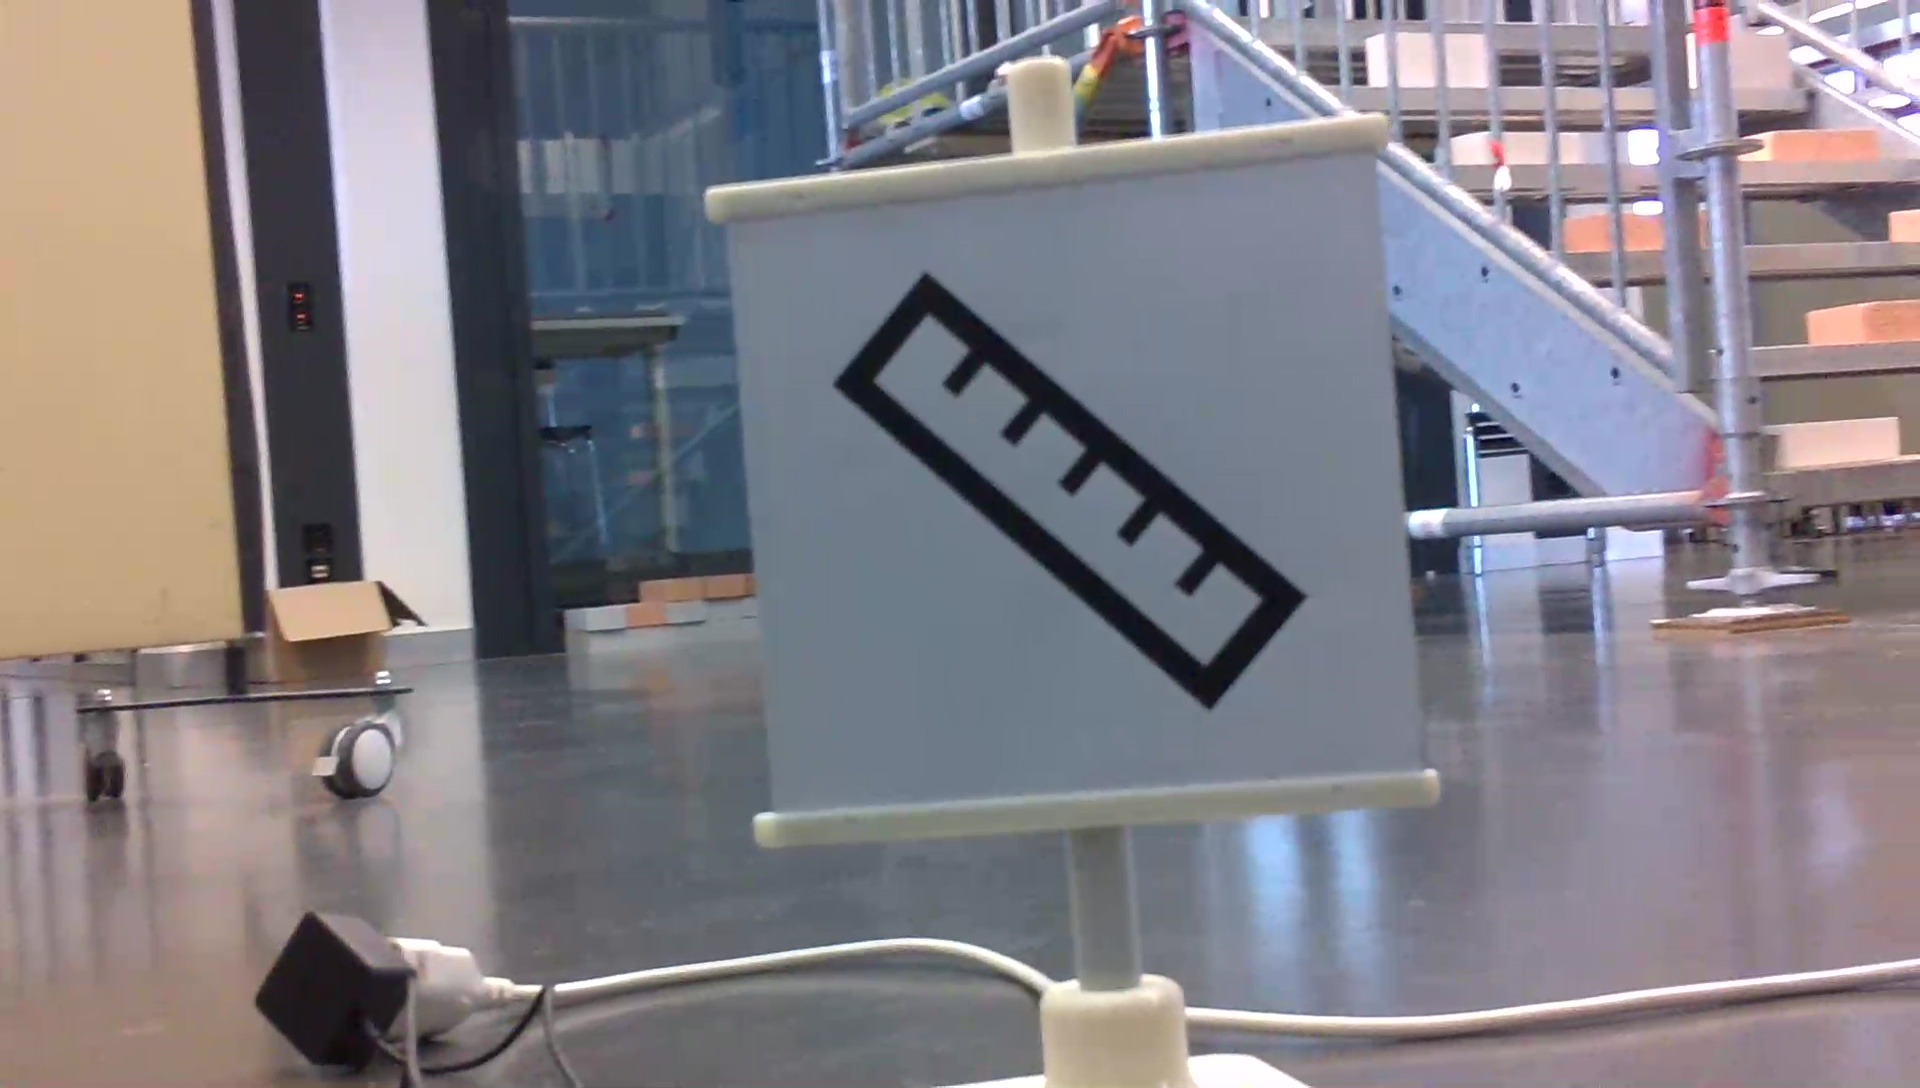brick: (1441, 127, 1605, 175), (1356, 30, 1499, 83), (1687, 29, 1797, 95), (1742, 123, 1894, 167), (1763, 413, 1911, 452), (1807, 309, 1920, 346), (1892, 198, 1920, 244)
ruler: (825, 251, 1325, 742)
